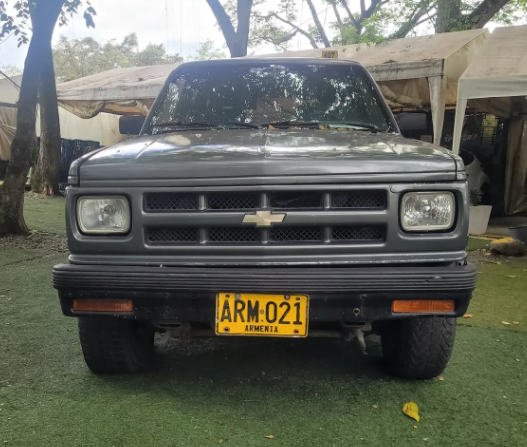placa: (214, 291, 309, 340)
